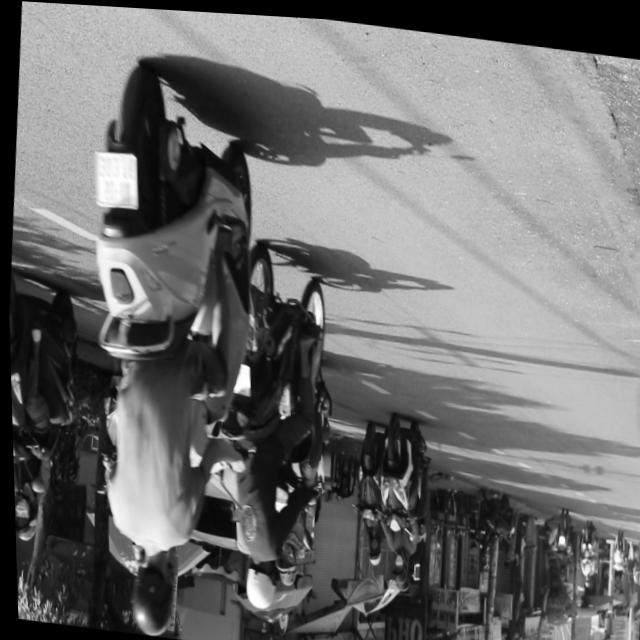helmet: (122, 546, 176, 636), (238, 553, 275, 610), (268, 539, 297, 589), (11, 493, 35, 543), (386, 548, 405, 586)
licenseplate: (54, 51, 283, 640), (202, 240, 341, 621), (6, 267, 87, 550), (367, 407, 435, 589)
nohelmet: (92, 149, 139, 209)
